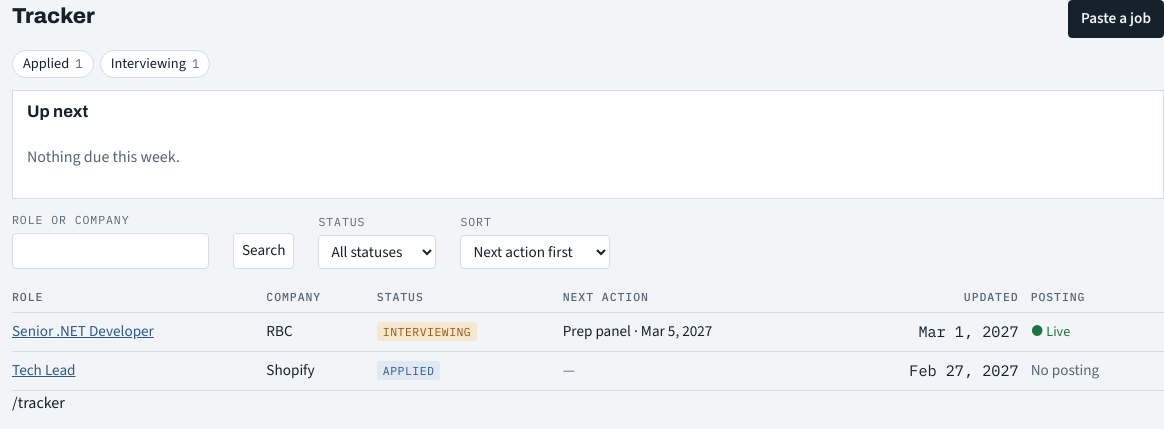
Scenario: Tracker page › keeps status, search and sort in the URL and asks the API for them
The width and height of the screenshot is (1164, 429).
Expected: the link "Tech Lead" is shown, [12,360,76,380]
Step 1. Select "Applied" in the dropdown labelled "Status" → (377, 252), box [318,234,436,268]
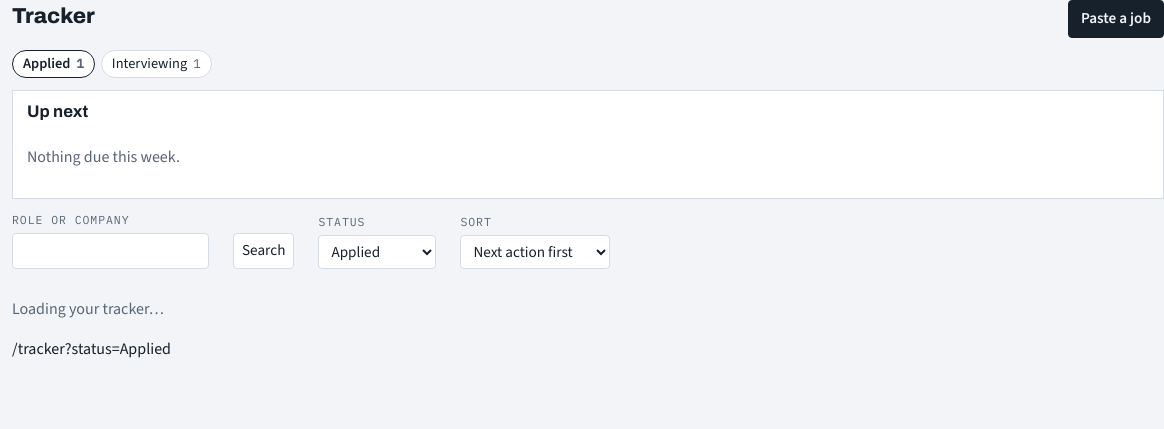
Step 2. Select "Company" in the dropdown labelled "Sort" → (535, 252), box [460,234,610,268]
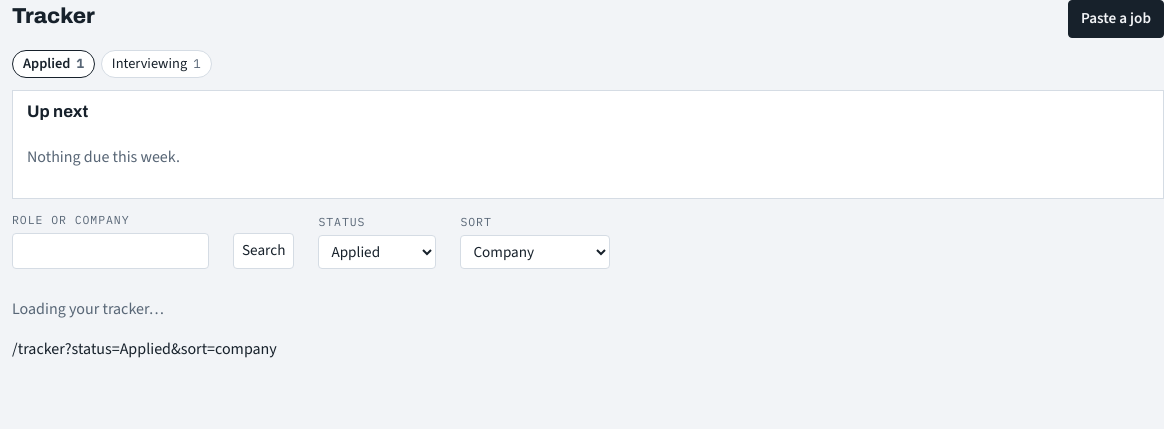
Step 3. Type "shop" into the search field labelled "Role or company" → (110, 251), box [12,233,209,268]
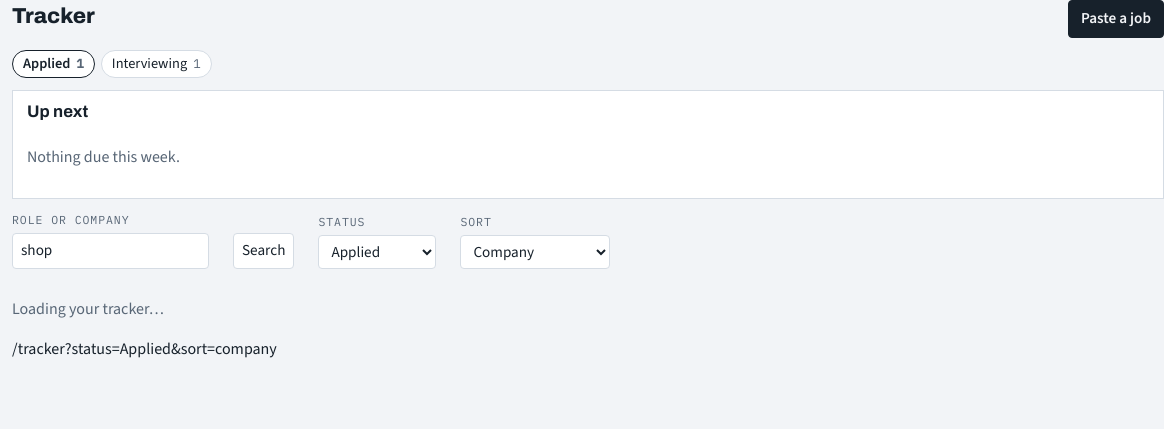
Step 4. Click the button "Search" → (264, 251), box [233,233,294,269]
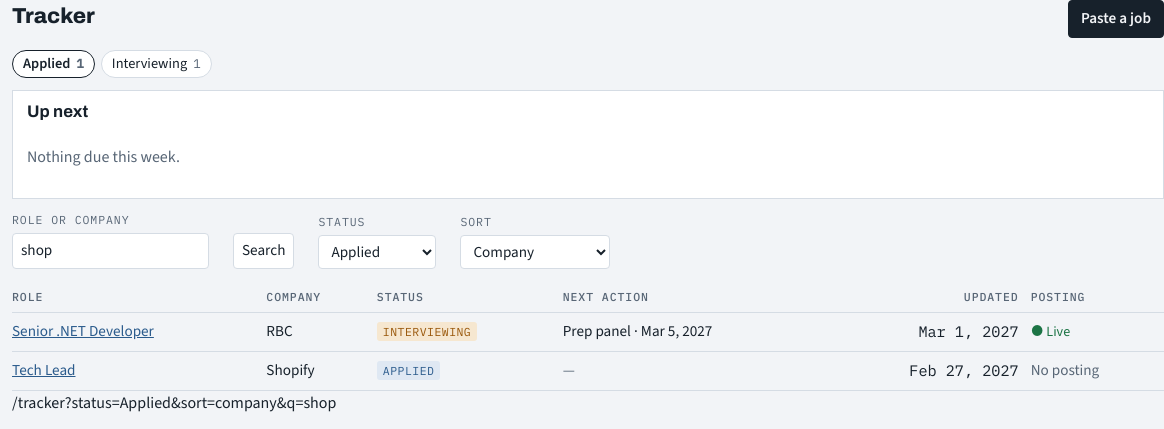
Result: the text with test id "location" reads "/tracker?status=Applied&sort=company&q=shop" at [12,392,336,412]
